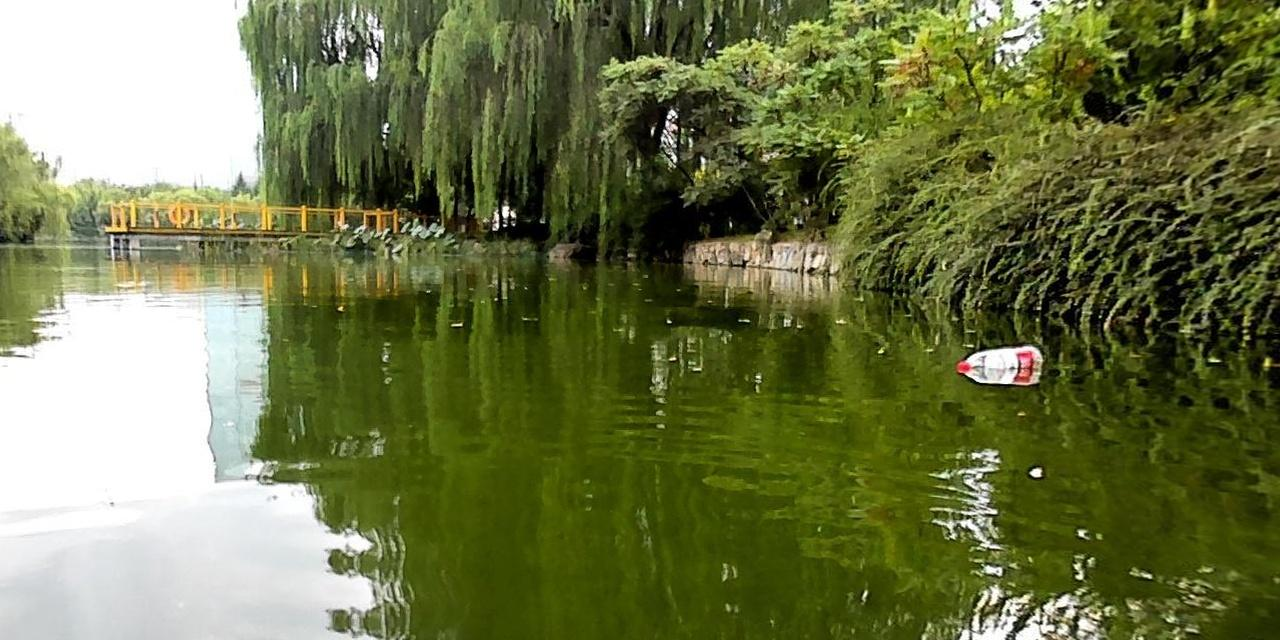bottle: (954, 343, 1044, 374)
